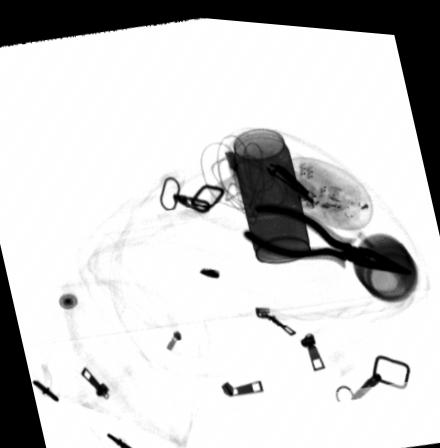Pliers: (241, 197, 413, 267)
